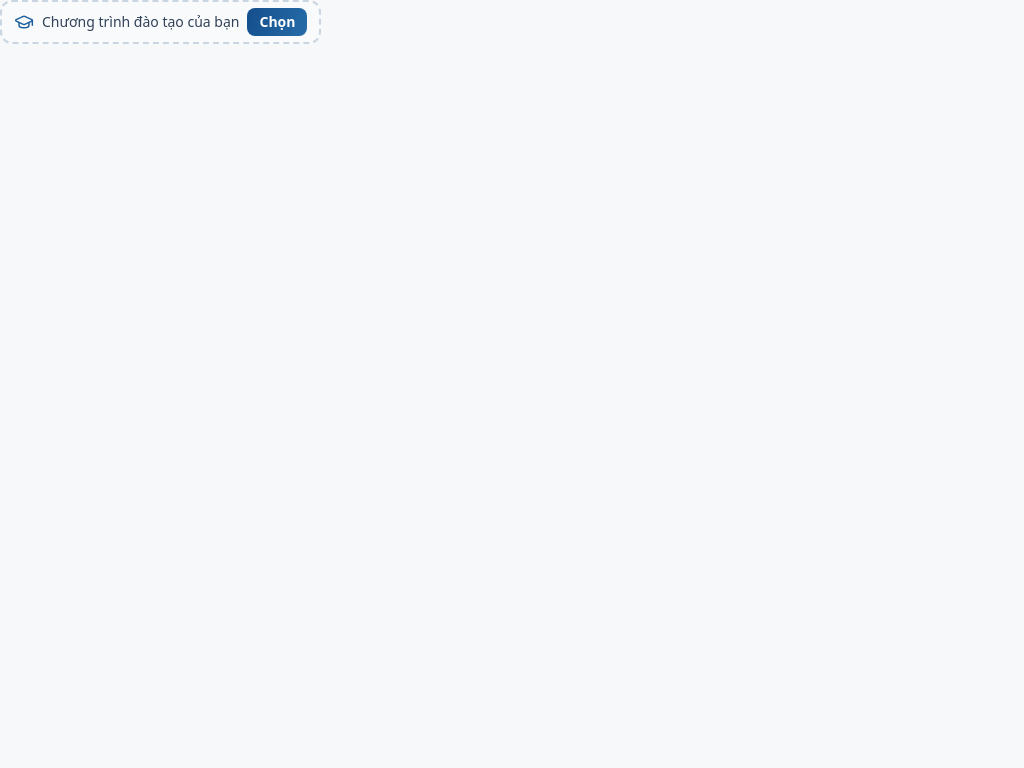
Scenario: Brief W16: ProgramFilterBar component tests › 14. Compact/Header: Chưa có CTĐT -> hiện nhãn chính và nút Chọn riêng
Expected: the text "Chương trình đào tạo của bạn" is shown, [42,12,240,32]
Expected: the icon is shown, [14,12,34,32]
Click the button with aria-label "Chọn chương trình đào tạo của bạn". click: [278, 22]
box: [248,8,308,36]
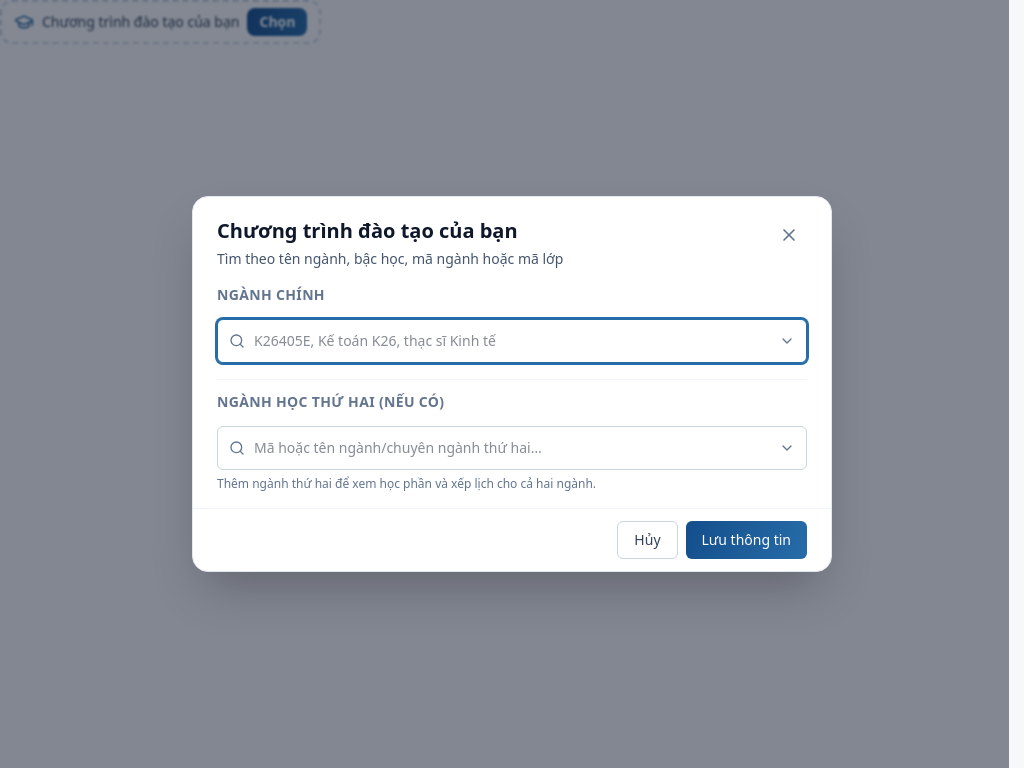
Expected: the dialog is shown, [192,196,832,572]
